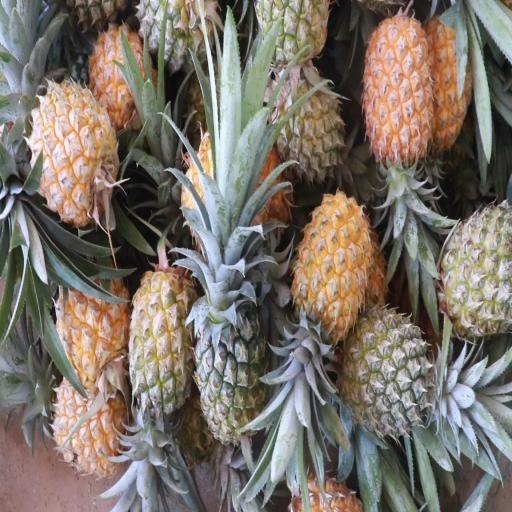------------------------------: (128, 266, 192, 438)
Pineapple - v8 v1: (361, 13, 431, 246), (296, 189, 367, 417), (26, 96, 124, 229), (52, 257, 133, 390), (90, 24, 159, 129), (424, 8, 473, 155), (54, 386, 130, 475)
